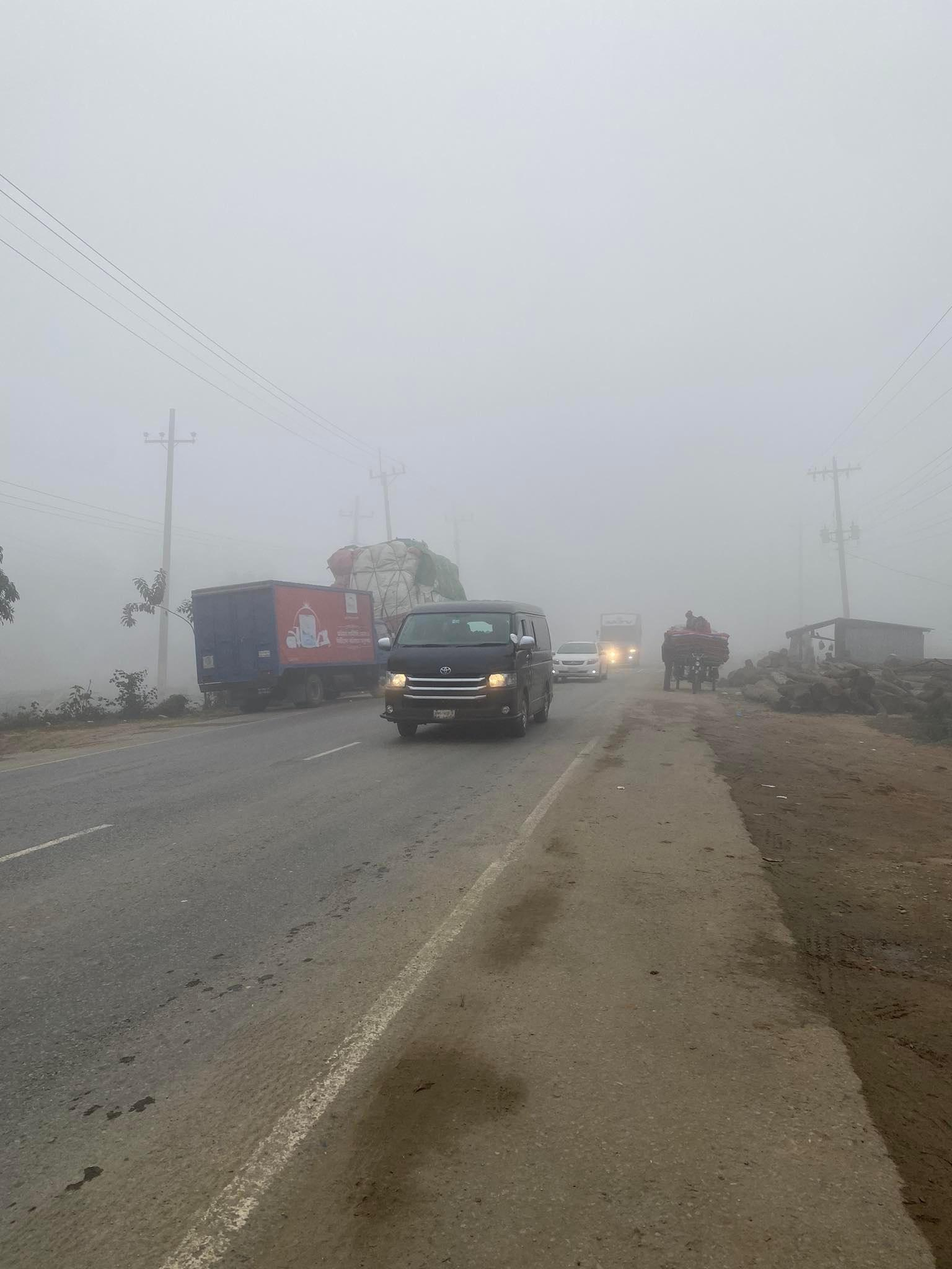Car: (556, 631, 610, 688)
Truck: (155, 555, 402, 712), (369, 591, 565, 752), (597, 604, 651, 677)
